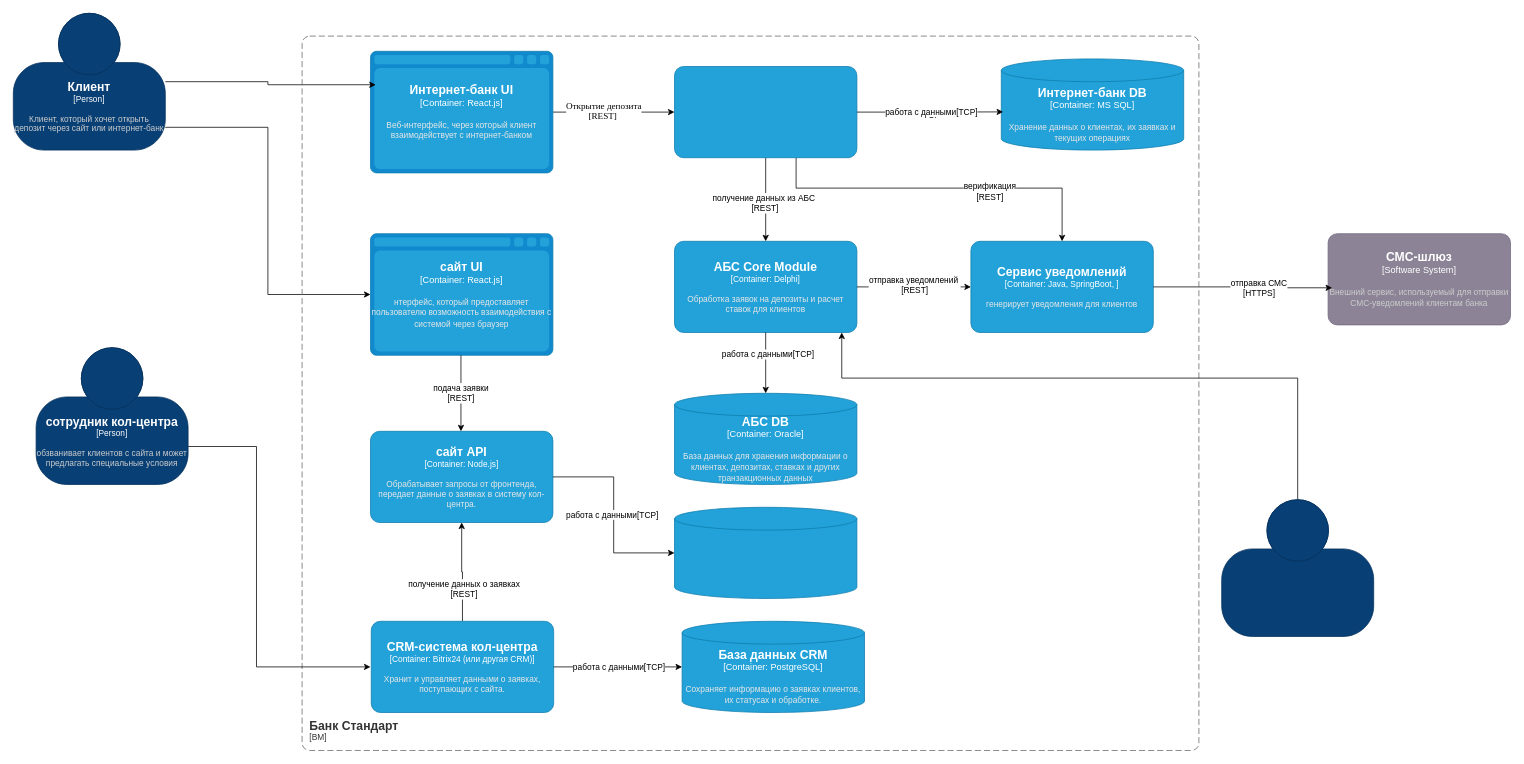
Some shapes in this 1524 by 764 pixel diagram are drawn without their labels. Here are the shapes that lost their labels. From the top down, the centre of each, then its label:
At pixel 765 112: "Интернет-банк API [Container: Spring Boot] Серверная часть интернет-банка".
At pixel 765 552: "сайт DB [Container: Postgres] хранит информацию о заявках".
At pixel 1297 567: "Менеджер бэк-офиса депозитов [Person] подтверждает условия депозита в АБС.".
